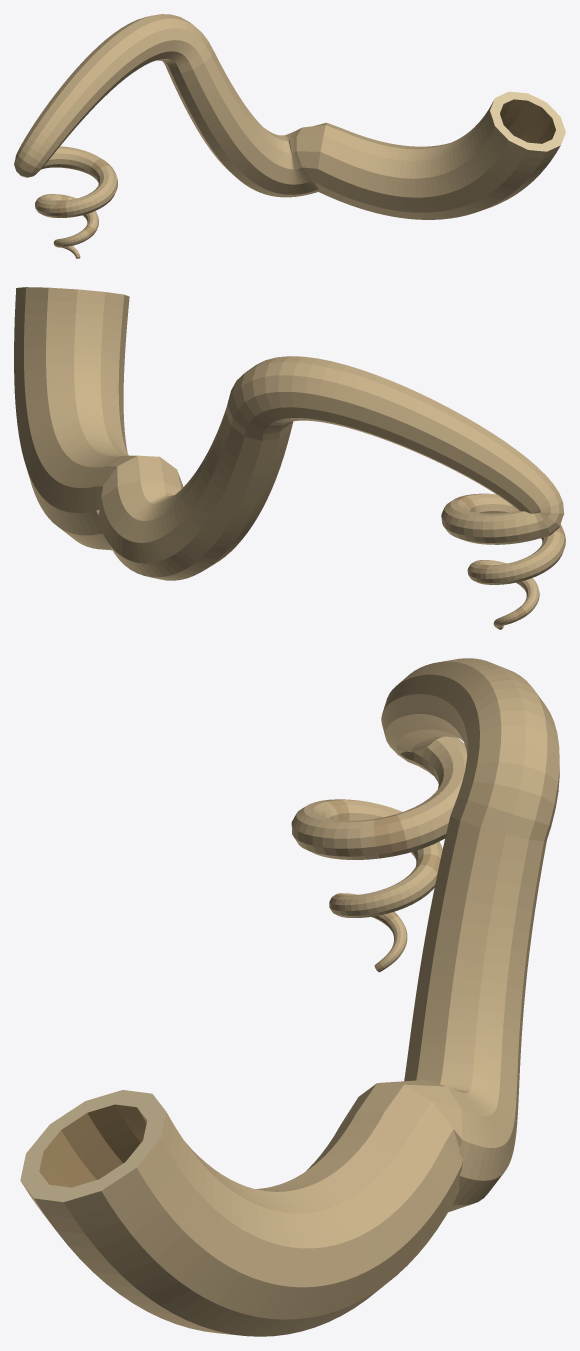
File: vermicularia.glb
3 renders of one model, top to bottom at view 1: azimuth 30°, elevation 25°; view 2: azimuth 150°, elevation 25°; view 3: azimuth 270°, elevation 25°, orthographic. The views are drawn at different scales.
Visible parts, largest first — view 1: Continuous coiled-to-free hollow shell; view 2: Continuous coiled-to-free hollow shell; view 3: Continuous coiled-to-free hollow shell.
Part boxes in pixels (x1,y1,x2,y2): Continuous coiled-to-free hollow shell: (14,14,565,258); Continuous coiled-to-free hollow shell: (14,287,565,629); Continuous coiled-to-free hollow shell: (20,658,559,1336).
Bounding box in the file's own units: 0.1779 × 0.077 × 0.0892.
